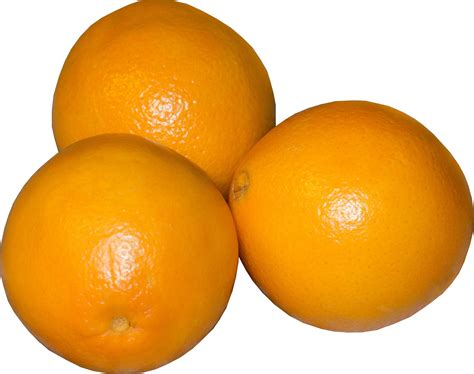orange: (224, 89, 474, 338), (1, 127, 240, 374), (37, 1, 282, 145)
